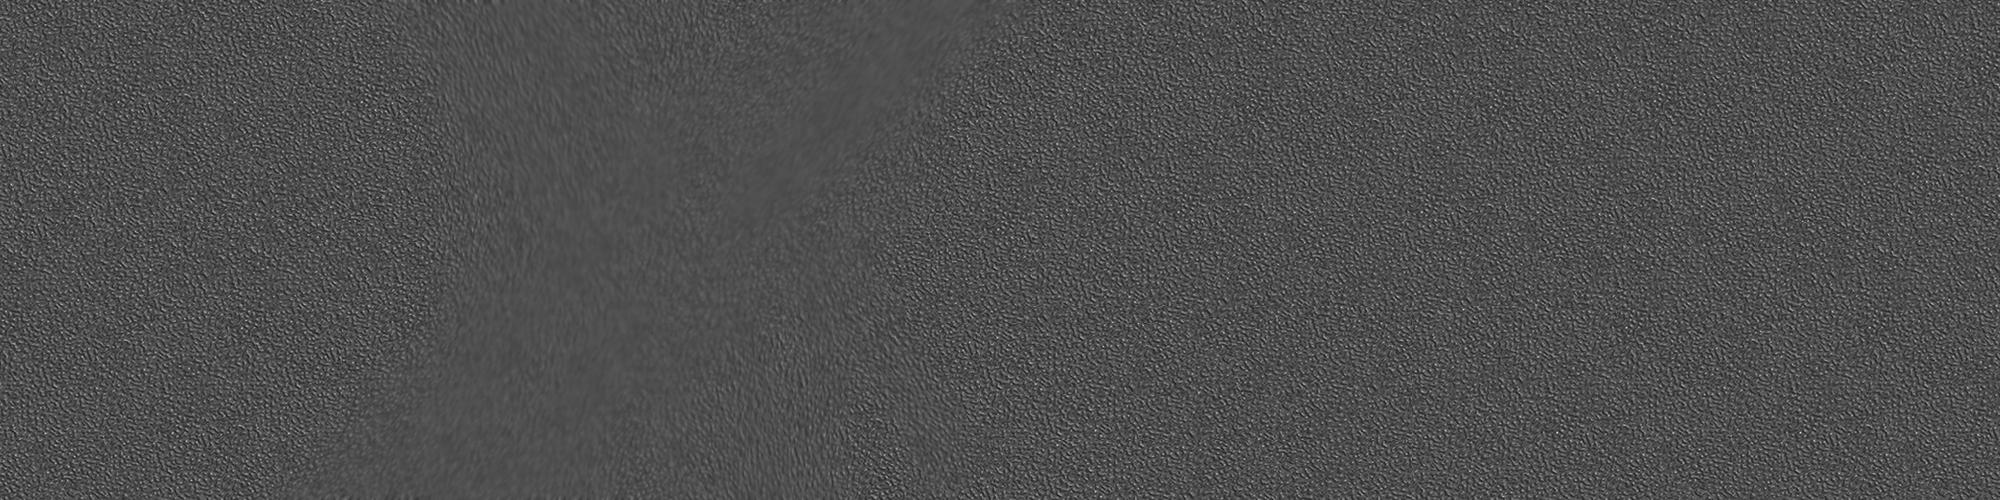Flow_Lines: (324, 6, 999, 500)
